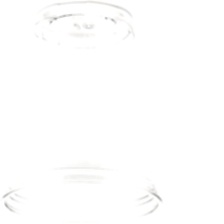glass: (0, 0, 162, 224)
